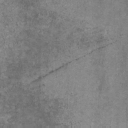finishing roll printing: (28, 39, 119, 83)
